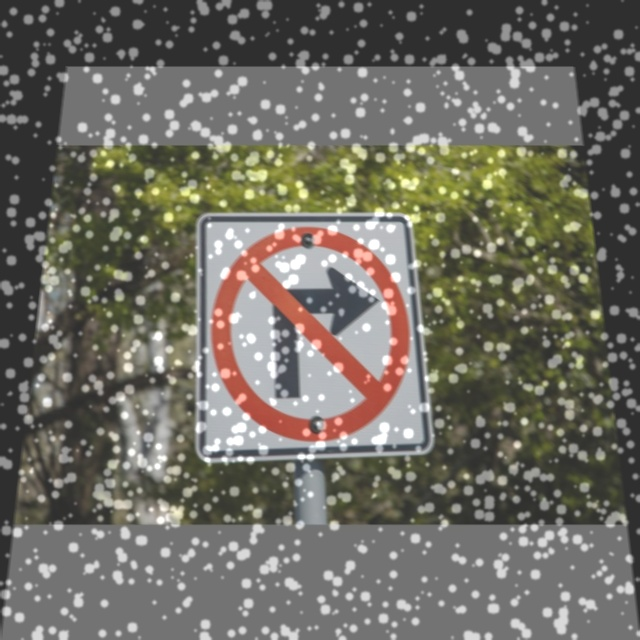Right_Turn_Prohibited: (201, 226, 421, 442)
